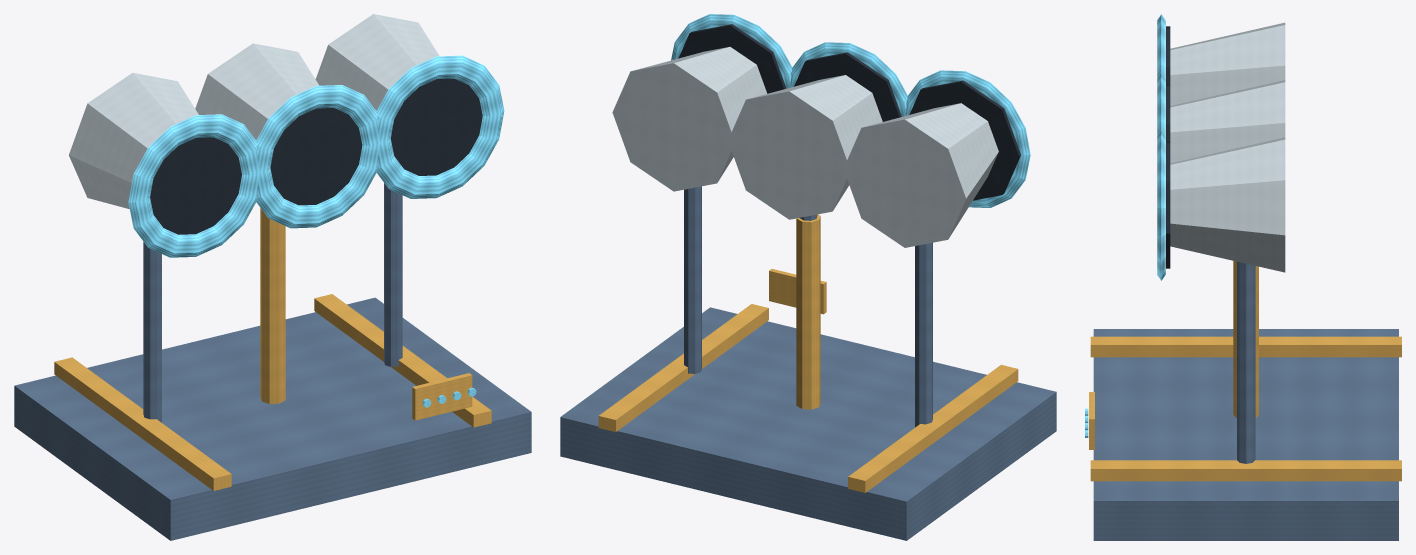
File: atlas100-s056-a02.glb
3 views of the same model, side by side, from view 1: azimuth 30°, elevation 25°; view 2: azimuth 150°, elevation 25°; view 3: azimuth 270°, elevation 25° (orthographic). The views are drawn at different scales.
Visible parts, largest first — view 1: atlas100-s056-a02:part-000, atlas100-s056-a02:part-006, atlas100-s056-a02:part-008, atlas100-s056-a02:part-016, atlas100-s056-a02:part-012, atlas100-s056-a02:part-007, atlas100-s056-a02:part-011, atlas100-s056-a02:part-015, atlas100-s056-a02:part-014, atlas100-s056-a02:part-010, atlas100-s056-a02:part-001, atlas100-s056-a02:part-003 (+4 smaller); view 2: atlas100-s056-a02:part-000, atlas100-s056-a02:part-006, atlas100-s056-a02:part-014, atlas100-s056-a02:part-010, atlas100-s056-a02:part-003, atlas100-s056-a02:part-001, atlas100-s056-a02:part-002, atlas100-s056-a02:part-007, atlas100-s056-a02:part-013, atlas100-s056-a02:part-005, atlas100-s056-a02:part-008, atlas100-s056-a02:part-011 (+4 smaller); view 3: atlas100-s056-a02:part-000, atlas100-s056-a02:part-014, atlas100-s056-a02:part-002, atlas100-s056-a02:part-010, atlas100-s056-a02:part-006, atlas100-s056-a02:part-001, atlas100-s056-a02:part-013, atlas100-s056-a02:part-016, atlas100-s056-a02:part-003, atlas100-s056-a02:part-015, atlas100-s056-a02:part-012, atlas100-s056-a02:part-008.
Boxes of the visible parts, box(x1,y1,x2,y2) form: atlas100-s056-a02:part-000: box(14, 297, 531, 540); atlas100-s056-a02:part-006: box(69, 73, 198, 208); atlas100-s056-a02:part-008: box(128, 114, 260, 257); atlas100-s056-a02:part-016: box(376, 55, 504, 198); atlas100-s056-a02:part-012: box(256, 85, 380, 228); atlas100-s056-a02:part-007: box(150, 137, 241, 234); atlas100-s056-a02:part-011: box(270, 108, 362, 205); atlas100-s056-a02:part-015: box(390, 78, 482, 175); atlas100-s056-a02:part-014: box(315, 14, 439, 110); atlas100-s056-a02:part-010: box(195, 43, 318, 139); atlas100-s056-a02:part-001: box(54, 357, 231, 490); atlas100-s056-a02:part-003: box(260, 208, 285, 403); atlas100-s056-a02:part-000: box(560, 307, 1056, 540); atlas100-s056-a02:part-006: box(844, 103, 998, 247); atlas100-s056-a02:part-014: box(612, 47, 767, 191); atlas100-s056-a02:part-010: box(728, 75, 882, 219); atlas100-s056-a02:part-003: box(796, 214, 820, 409); atlas100-s056-a02:part-001: box(848, 364, 1018, 492); atlas100-s056-a02:part-002: box(598, 304, 768, 431); atlas100-s056-a02:part-007: box(909, 80, 1020, 200); atlas100-s056-a02:part-013: box(684, 186, 701, 373); atlas100-s056-a02:part-005: box(915, 242, 932, 427); atlas100-s056-a02:part-008: box(906, 70, 1030, 207); atlas100-s056-a02:part-011: box(794, 52, 901, 121); atlas100-s056-a02:part-000: box(1093, 329, 1398, 540); atlas100-s056-a02:part-014: box(1170, 137, 1285, 272); atlas100-s056-a02:part-002: box(1090, 460, 1401, 481); atlas100-s056-a02:part-010: box(1170, 80, 1285, 163); atlas100-s056-a02:part-006: box(1170, 22, 1285, 105); atlas100-s056-a02:part-001: box(1090, 336, 1401, 357); atlas100-s056-a02:part-013: box(1237, 261, 1255, 463); atlas100-s056-a02:part-016: box(1157, 129, 1165, 280); atlas100-s056-a02:part-003: box(1233, 261, 1258, 417); atlas100-s056-a02:part-015: box(1166, 141, 1170, 268); atlas100-s056-a02:part-012: box(1157, 71, 1165, 134); atlas100-s056-a02:part-008: box(1157, 14, 1165, 76).
Size of the model in its own units: 2.5 by 2.45 by 1.87.
Materials: 5 (5 with a texture image).
